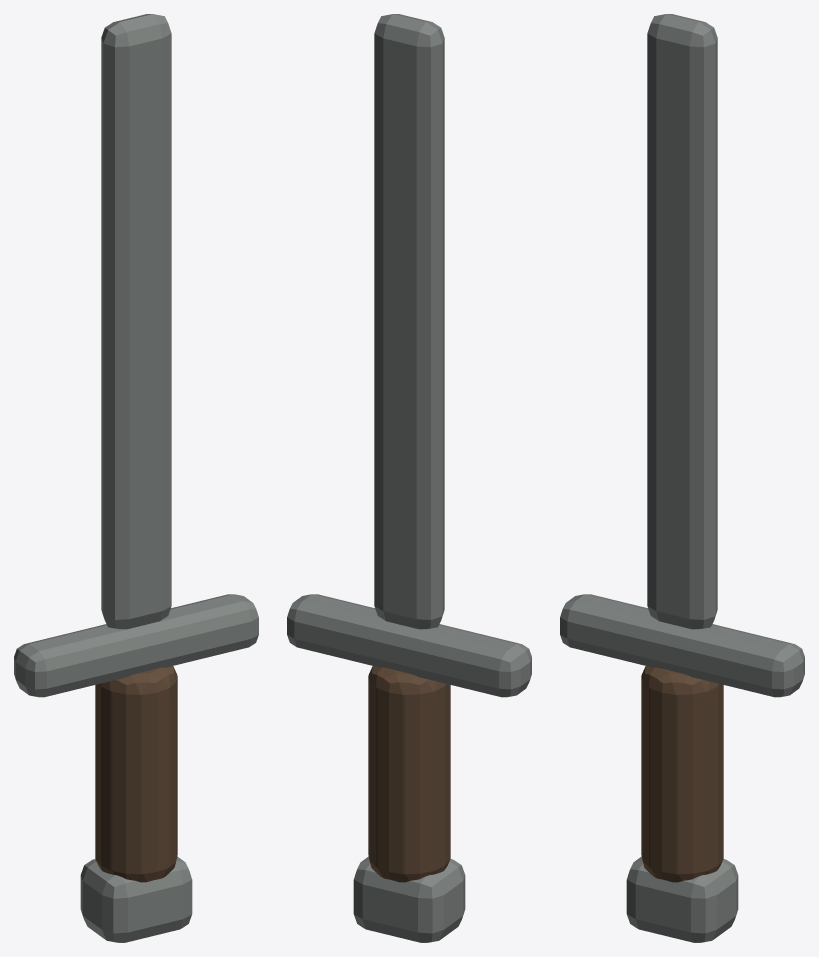
File: barrosan_clan_levy_accessories.glb
3 views of the same model, side by side, from view 1: azimuth 30°, elevation 25°; view 2: azimuth 150°, elevation 25°; view 3: azimuth 330°, elevation 25° (orthographic).
Visible parts, largest first — view 1: LevySidearmBlade, LevySidearmGrip, LevySidearmGuard, LevySidearmPommel; view 2: LevySidearmBlade, LevySidearmGrip, LevySidearmGuard, LevySidearmPommel; view 3: LevySidearmBlade, LevySidearmGrip, LevySidearmGuard, LevySidearmPommel.
Boxes of the visible parts, x1,y1,x2,y2 form: LevySidearmBlade: (101,14,171,629); LevySidearmGrip: (95,666,177,882); LevySidearmGuard: (14,594,258,697); LevySidearmPommel: (80,856,192,942); LevySidearmBlade: (374,14,444,629); LevySidearmGrip: (368,666,450,882); LevySidearmGuard: (287,594,531,697); LevySidearmPommel: (353,856,465,942); LevySidearmBlade: (647,14,717,629); LevySidearmGrip: (641,666,723,882); LevySidearmGuard: (560,594,804,697); LevySidearmPommel: (626,856,738,942).
Bounding box in the file's own units: 0.42 × 1.57 × 0.1288.
